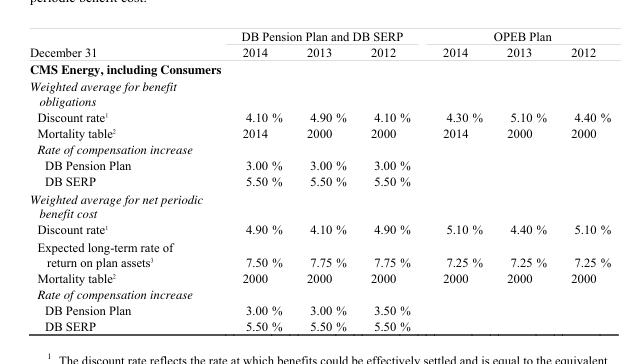table: (28, 28, 610, 332)
table column: (28, 28, 206, 332), (206, 28, 293, 332), (425, 28, 494, 332), (357, 28, 425, 332), (293, 28, 357, 332), (494, 28, 558, 332), (558, 28, 610, 332)
table column header: (28, 28, 610, 59)
table projected row header: (28, 189, 610, 221), (28, 77, 610, 108), (28, 59, 610, 77), (28, 140, 610, 157), (28, 285, 610, 301)
table row: (28, 189, 610, 221), (28, 77, 610, 108), (28, 238, 610, 269), (28, 59, 610, 77), (28, 140, 610, 157), (28, 172, 610, 189), (28, 221, 610, 238), (28, 28, 610, 44), (28, 108, 610, 124), (28, 124, 610, 140), (28, 269, 610, 285), (28, 285, 610, 301), (28, 301, 610, 317), (28, 44, 610, 59), (28, 157, 610, 172), (28, 317, 610, 332)
table spanning cell: (28, 28, 206, 59), (206, 28, 425, 44), (425, 28, 610, 44)
